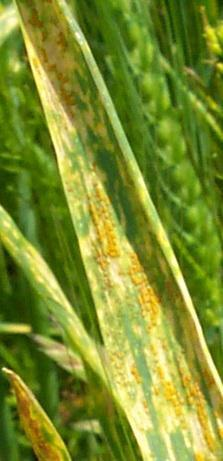Wheat: (119, 321, 222, 440), (75, 186, 157, 300)
